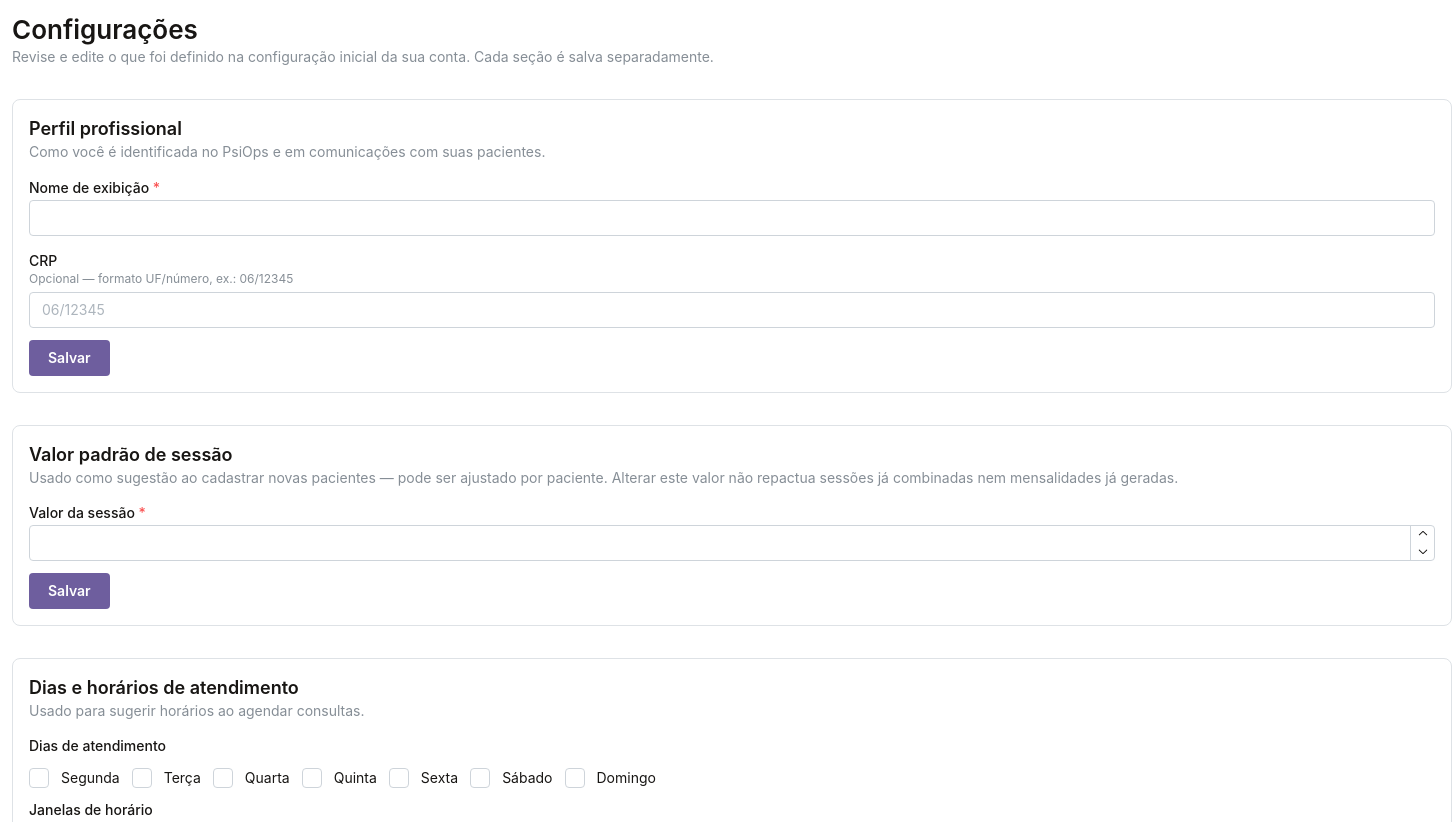
SettingsPage › seção perfil: mostra notificação de erro quando o adapter falha e preserva o formulário
Expected: the element with test id "settings-section-perfil" is shown, [12,99,1451,393]
Type "Ana Beatriz" into the field labelled "Nome de exibição". click: (732,218)
box: [29,200,1435,236]
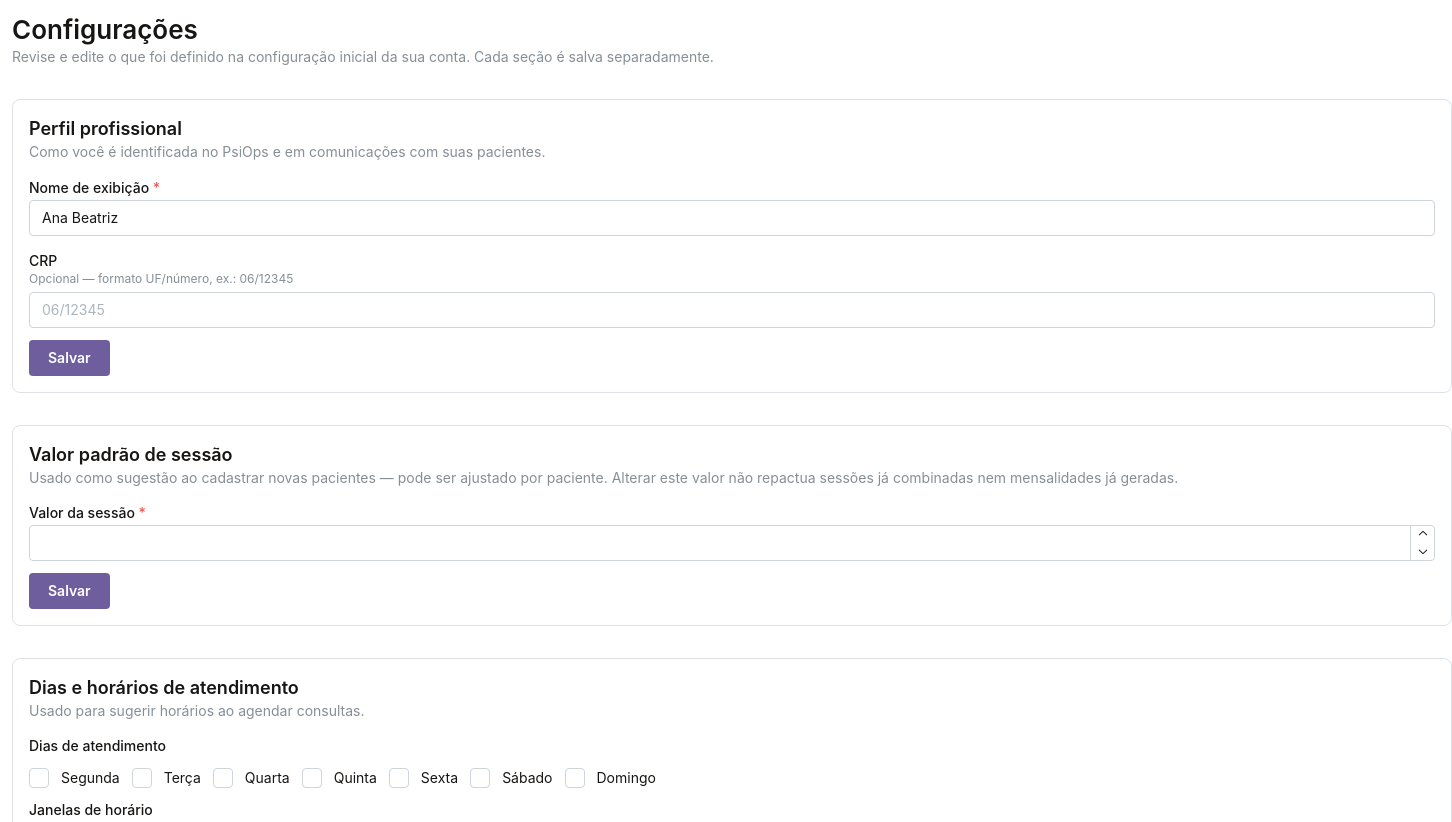
Click the submit button. click: (69,358)
box: [29,340,110,376]
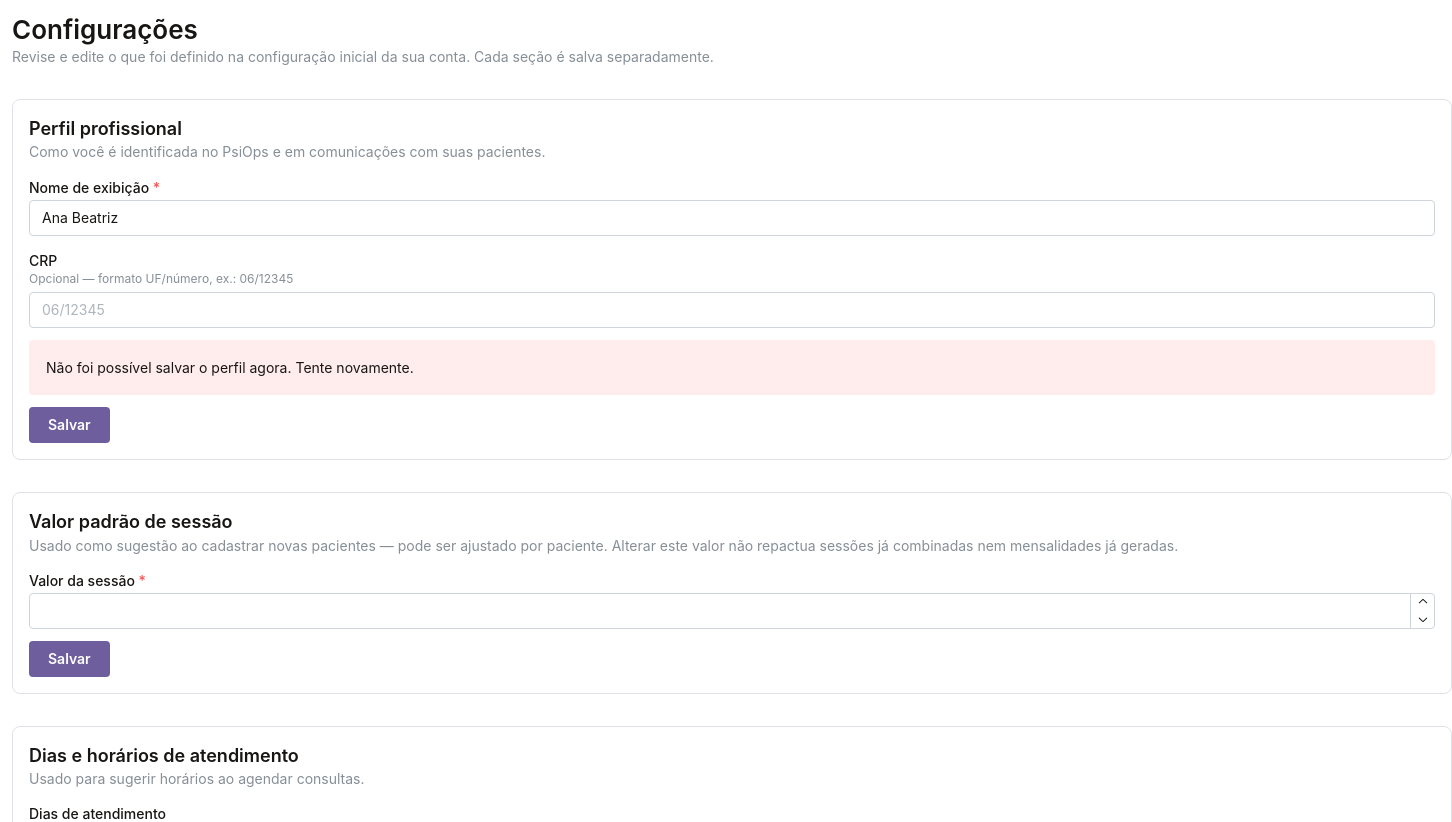
Now the message "Não foi possível salvar o perfil agora. Tente novamente." is shown, box [29,340,1435,396]
